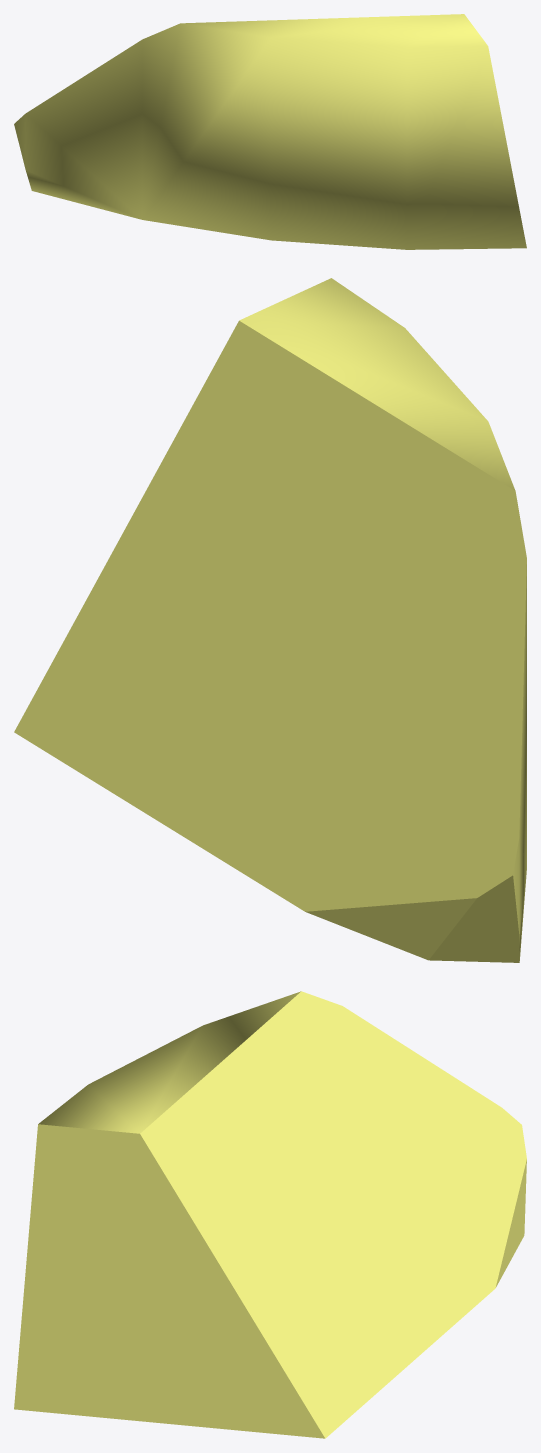
Rendered from breakableCenter_cell_004.fbx.
3 renders of one model, top to bottom at view 1: azimuth 30°, elevation 25°; view 2: azimuth 150°, elevation 25°; view 3: azimuth 270°, elevation 25°, orthographic. The views are drawn at different scales.
Parts seen in each view (by area): view 1: breakableCenter_cell.004; view 2: breakableCenter_cell.004; view 3: breakableCenter_cell.004.
Part boxes in pixels (box(x1,y1,x2,y2)): breakableCenter_cell.004: box(14, 14, 526, 249); breakableCenter_cell.004: box(14, 278, 526, 962); breakableCenter_cell.004: box(14, 991, 526, 1438).
Size of the model in its own units: 26.68 by 14.14 by 24.7.
